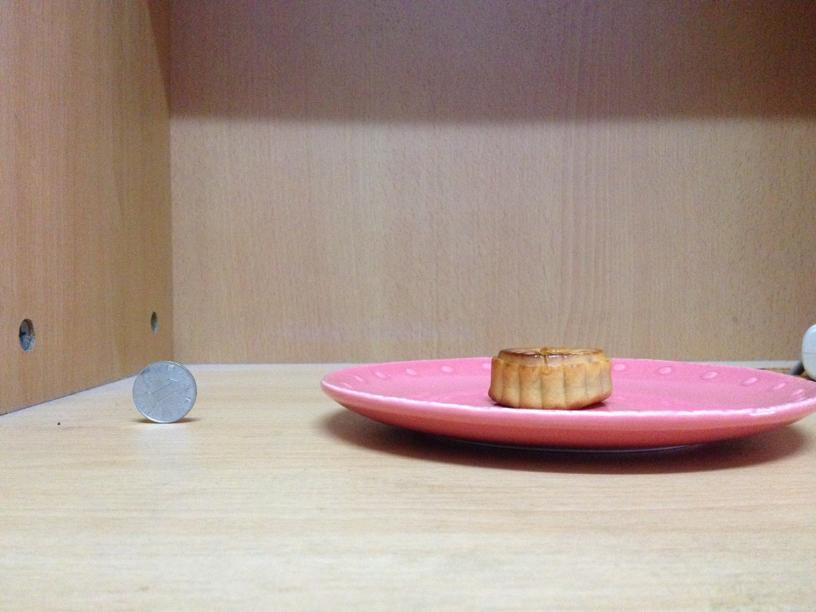coin: (131, 358, 195, 422)
mooncake: (483, 345, 612, 407)
